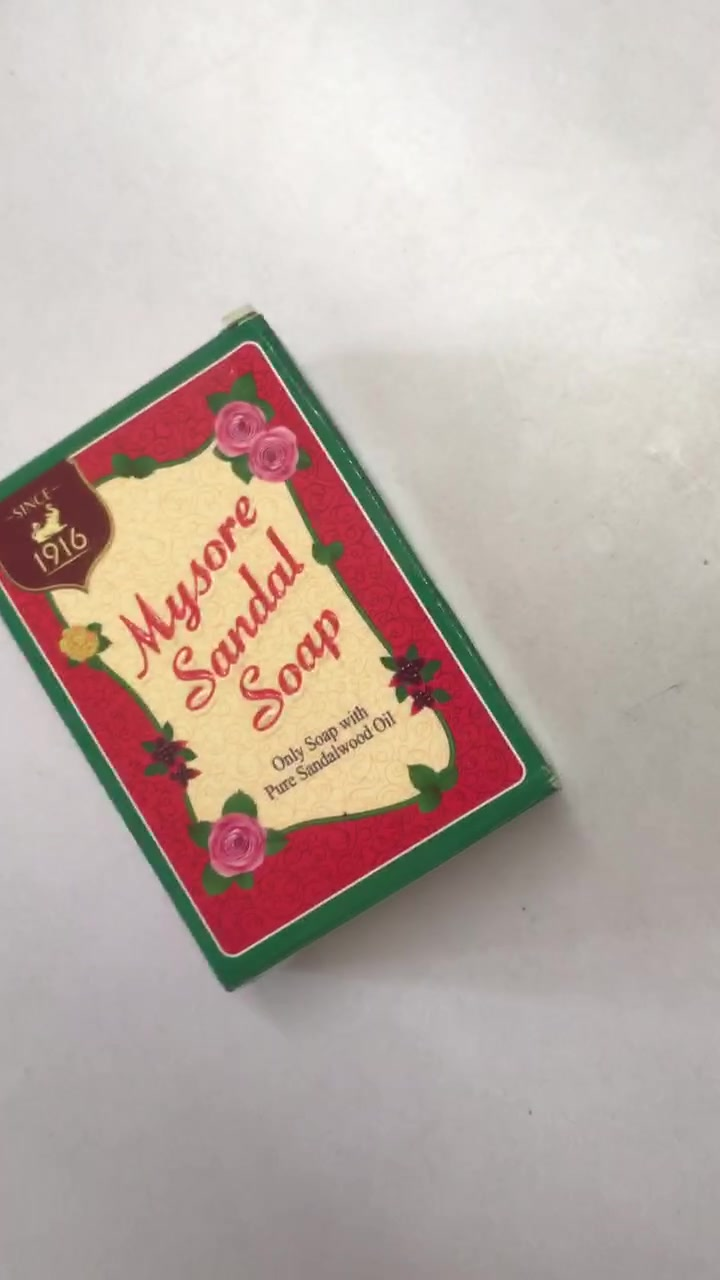mysore sandal soap: (1, 310, 553, 995)
